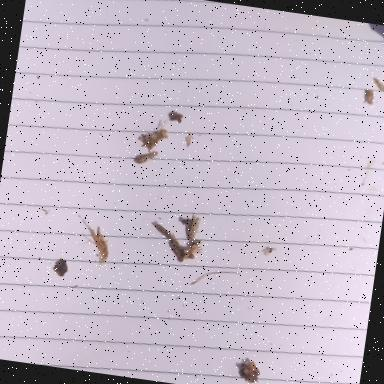pbw: (184, 212, 202, 240), (133, 147, 158, 166)
